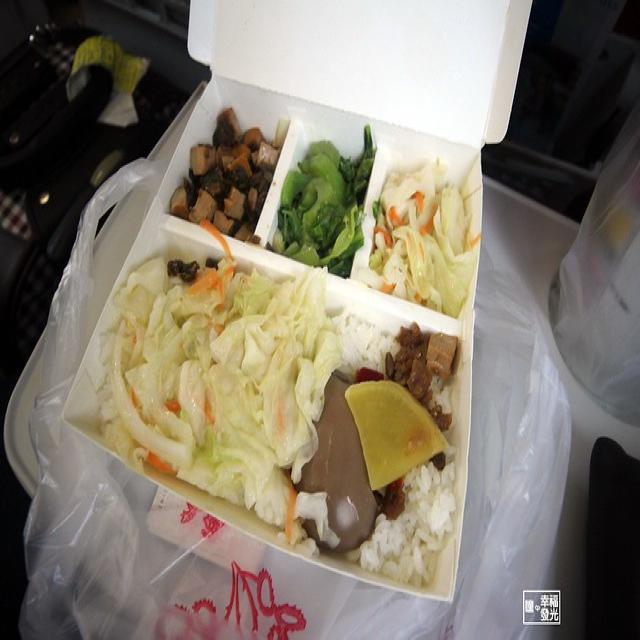Fushan-lettuce: (305, 127, 353, 263)
braised egg: (333, 407, 357, 530)
cabbage: (147, 267, 318, 478), (398, 172, 458, 296)
rice: (412, 494, 439, 576)
